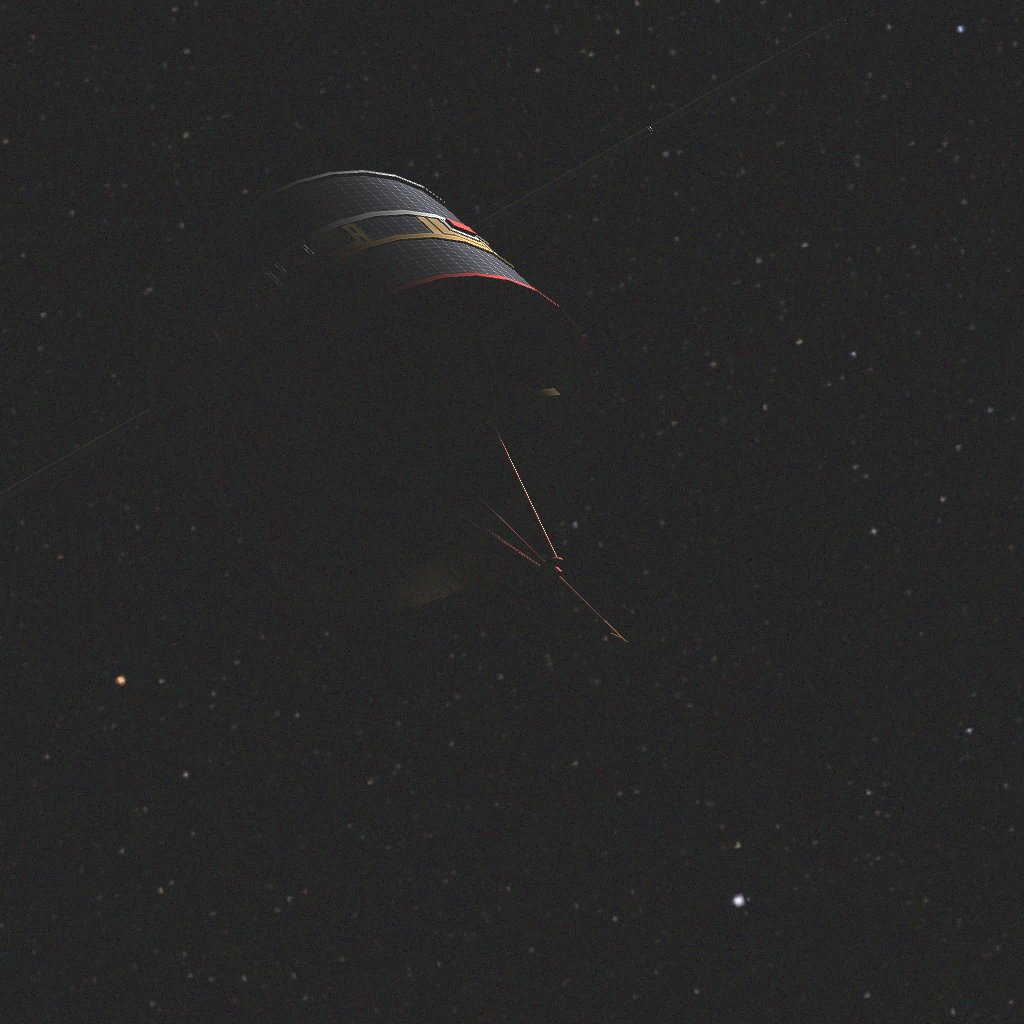double_star: (0, 17, 846, 648)
